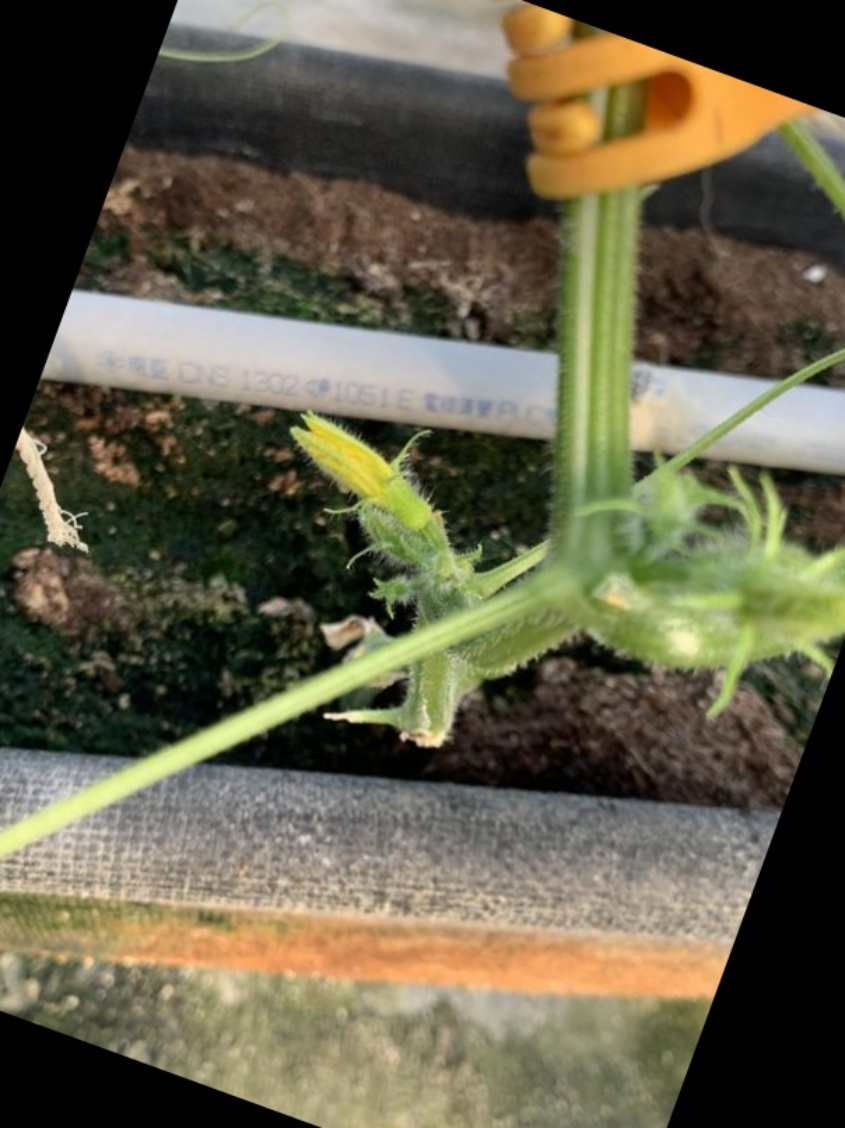bud: (283, 410, 438, 532)
